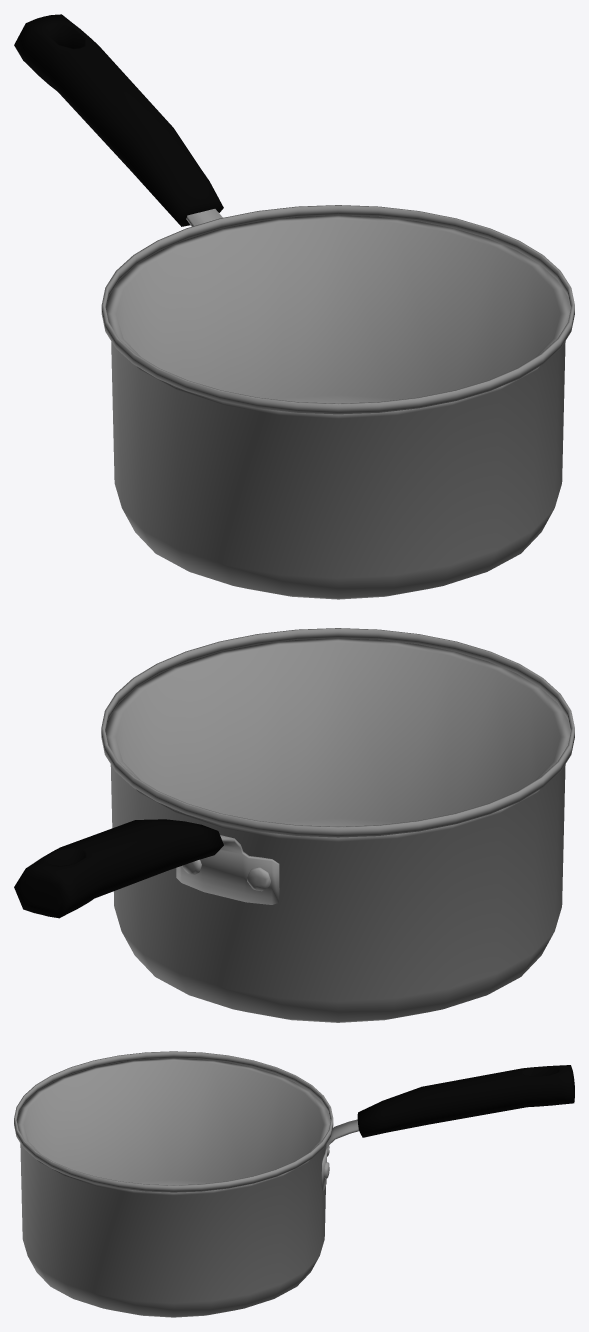
Rendered from pot.fbx.
3 renders of one model, top to bottom at view 1: azimuth 30°, elevation 25°; view 2: azimuth 150°, elevation 25°; view 3: azimuth 270°, elevation 25°, orthographic. The views are drawn at different scales.
Parts seen in each view (by area): view 1: kitchen_pot_02; view 2: kitchen_pot_02; view 3: kitchen_pot_02.
Part boxes in pixels (x1=…): kitchen_pot_02: x1=14, y1=14, x2=574, y2=599; kitchen_pot_02: x1=14, y1=628, x2=574, y2=1022; kitchen_pot_02: x1=14, y1=1051, x2=574, y2=1317.
Size of the model in its own units: 0.3112 by 0.2116 by 0.5464.
